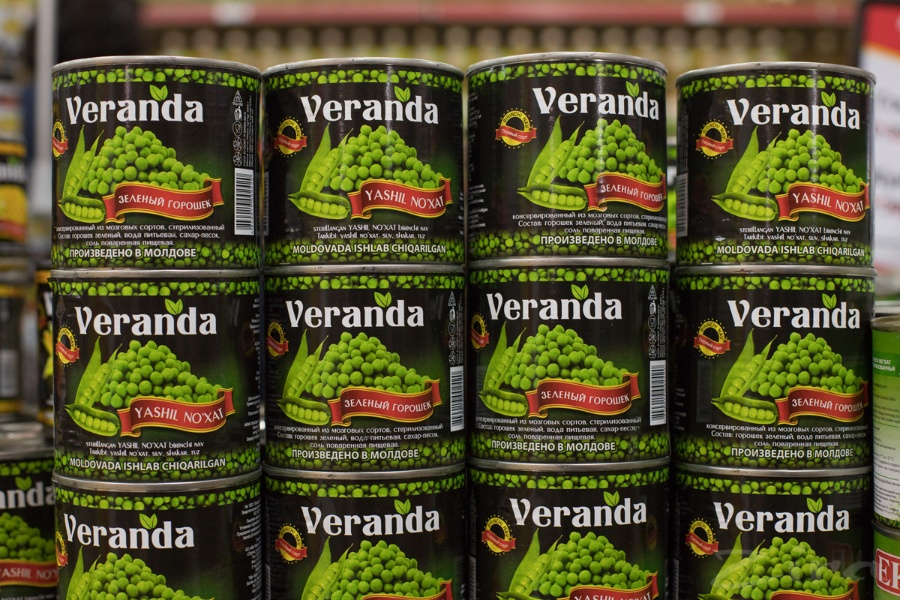peas: (31, 42, 277, 282), (246, 49, 480, 281), (453, 43, 681, 276), (669, 48, 888, 284), (34, 268, 272, 484), (253, 262, 474, 481), (669, 266, 886, 479), (469, 261, 677, 475)
